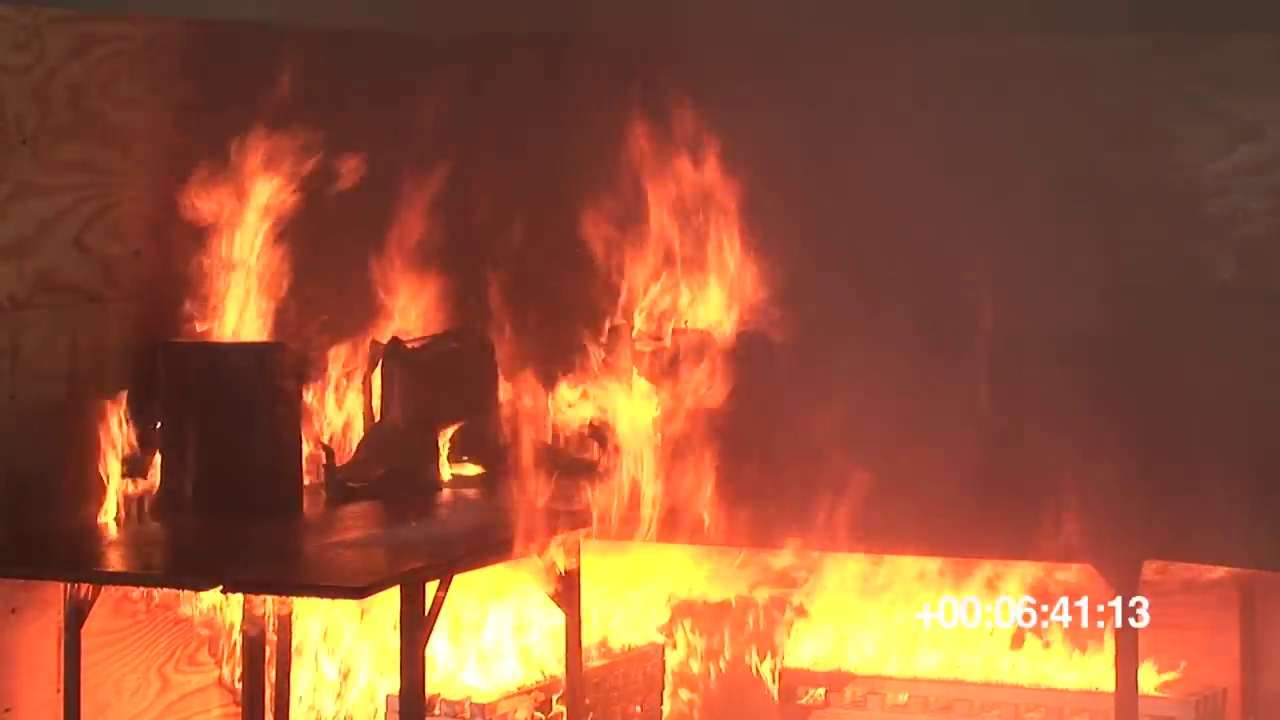fire: (202, 593, 1176, 699), (535, 123, 765, 550), (185, 144, 296, 342), (98, 392, 157, 531), (375, 237, 439, 327), (311, 348, 358, 460), (439, 426, 450, 486)
